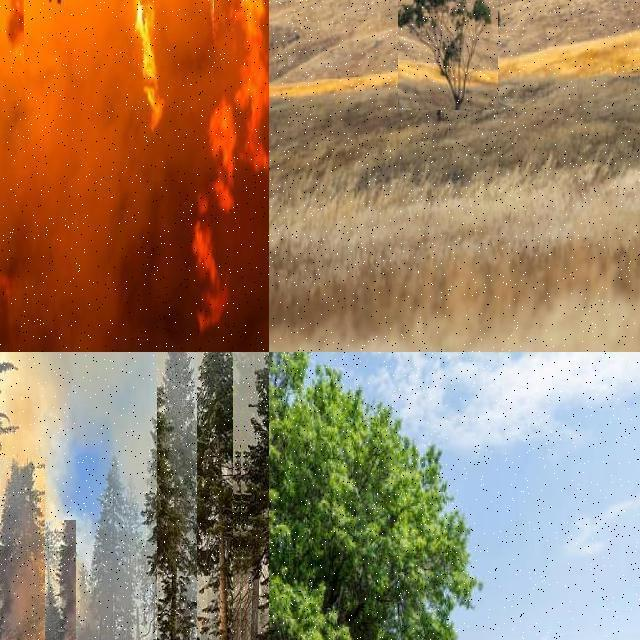tree: (269, 352, 473, 640), (181, 352, 269, 640), (157, 352, 197, 640), (398, 0, 498, 110), (233, 352, 269, 640), (86, 463, 135, 640), (0, 458, 45, 640), (241, 407, 269, 640), (31, 0, 78, 124), (32, 520, 76, 640), (0, 0, 24, 100), (164, 1, 192, 72), (258, 0, 270, 60)
